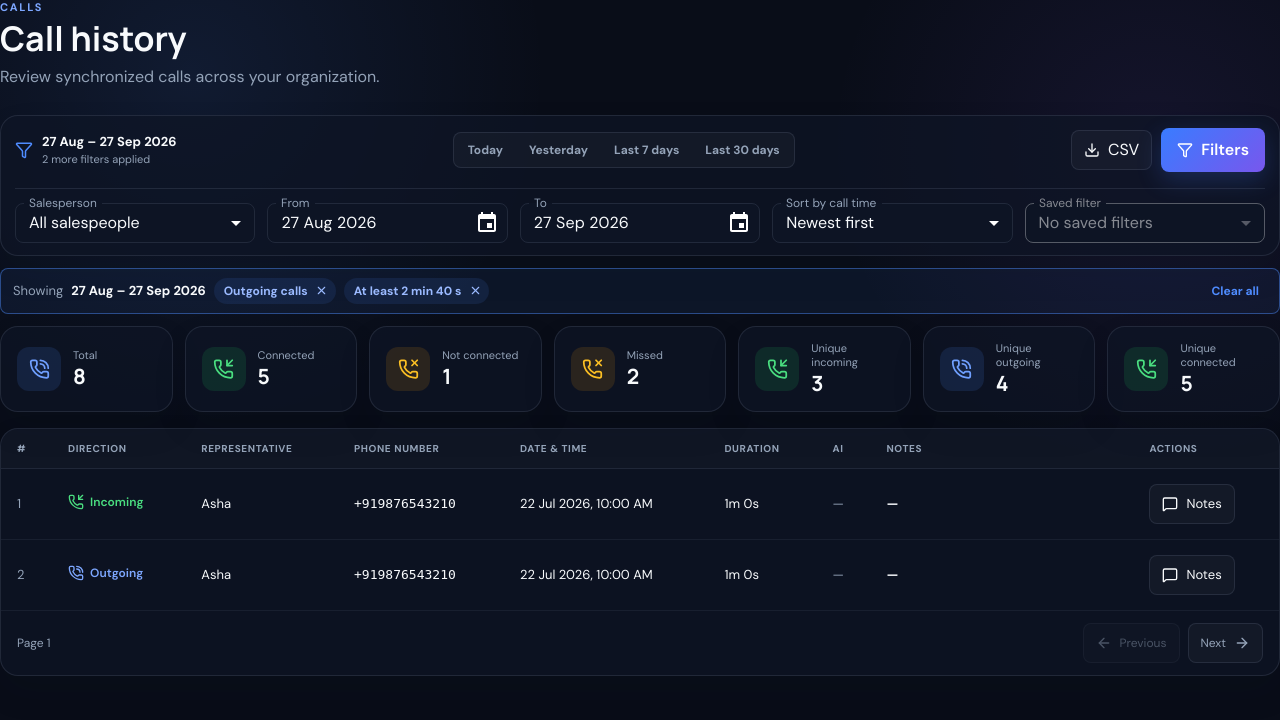
Test: CallHistory › shows active filters as removable chips and clears everything back to today
Expected: the text "27 Aug – 27 Sep 2026" next to "Showing" is shown, [71,282,206,299]
Expected: the text "Outgoing calls" is shown, [214,278,336,304]
Click the button named "Remove filter: Outgoing calls": (322, 291) [312,281,332,301]
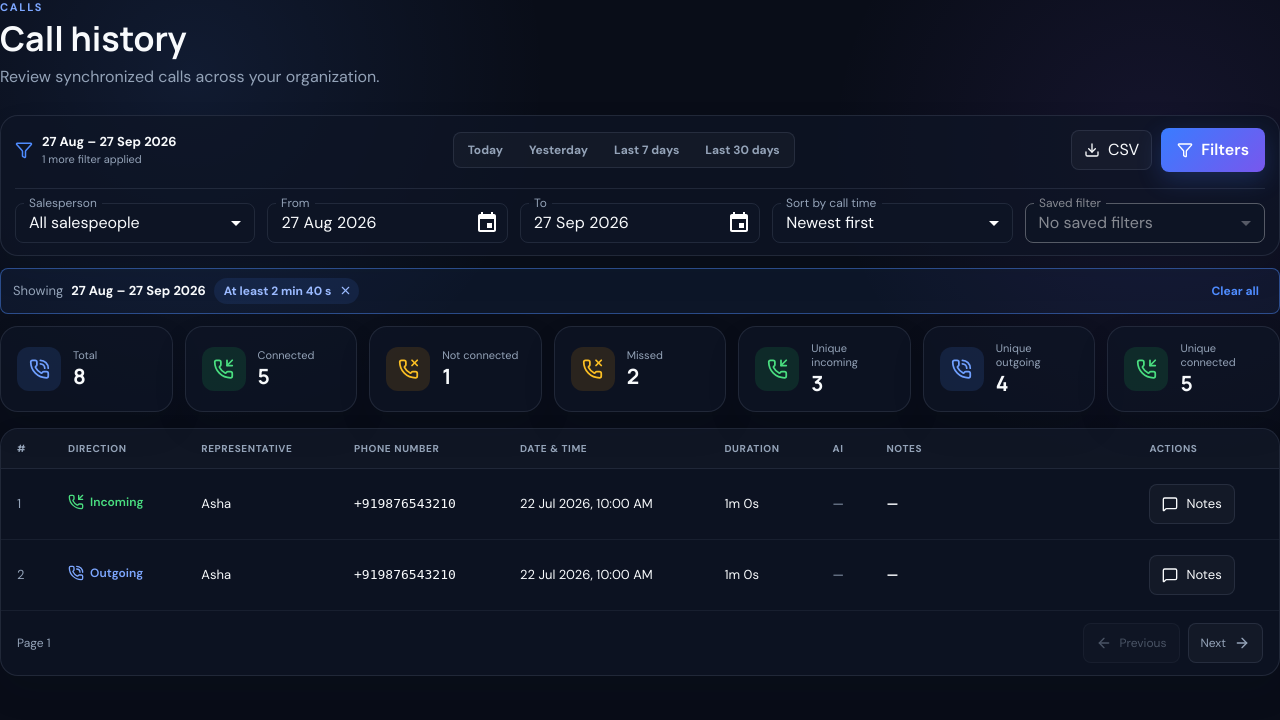
Expected: the text "Outgoing calls" is gone
Click the button "Clear all": (1235, 291) [1204,279,1267,303]
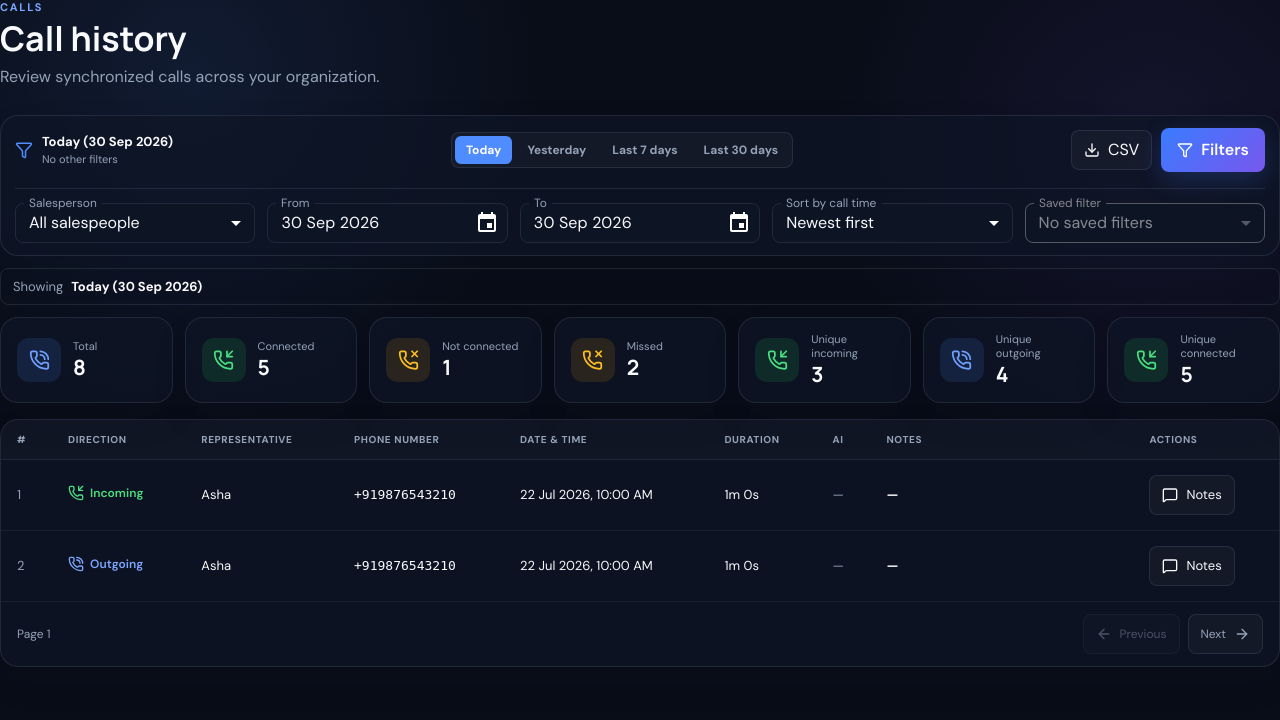
Expected: the text "Today (30 Sep 2026)" next to "Showing" is shown, [71,278,202,295]
Expected: the button "Clear all" is gone
